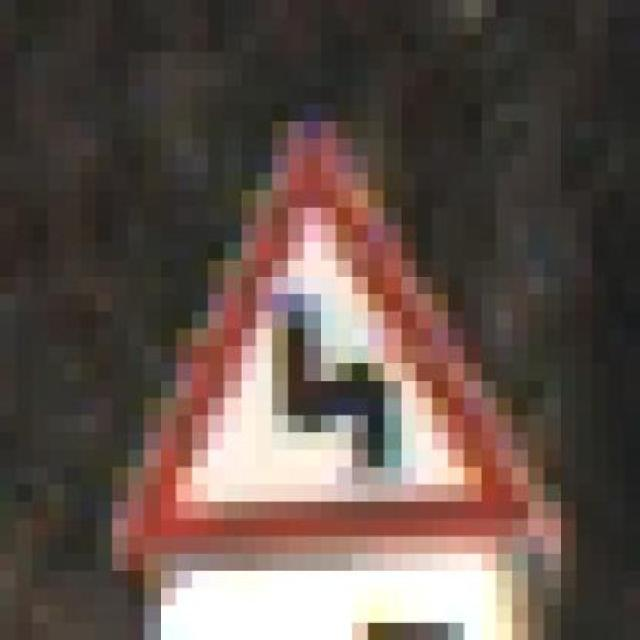Left Zig Zag Traffic: (95, 86, 560, 554)
